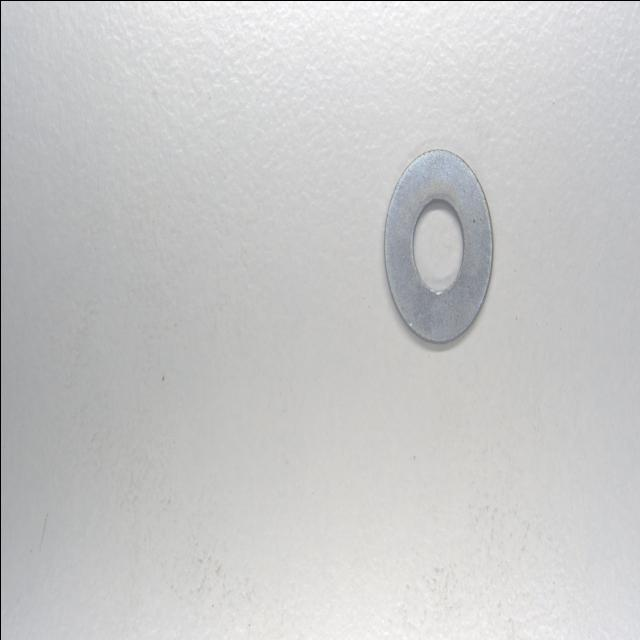washer: (382, 146, 494, 350)
